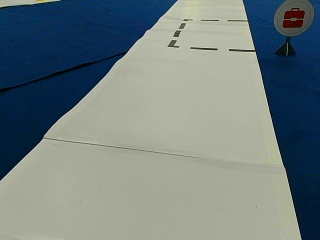company: (274, 1, 313, 35)
